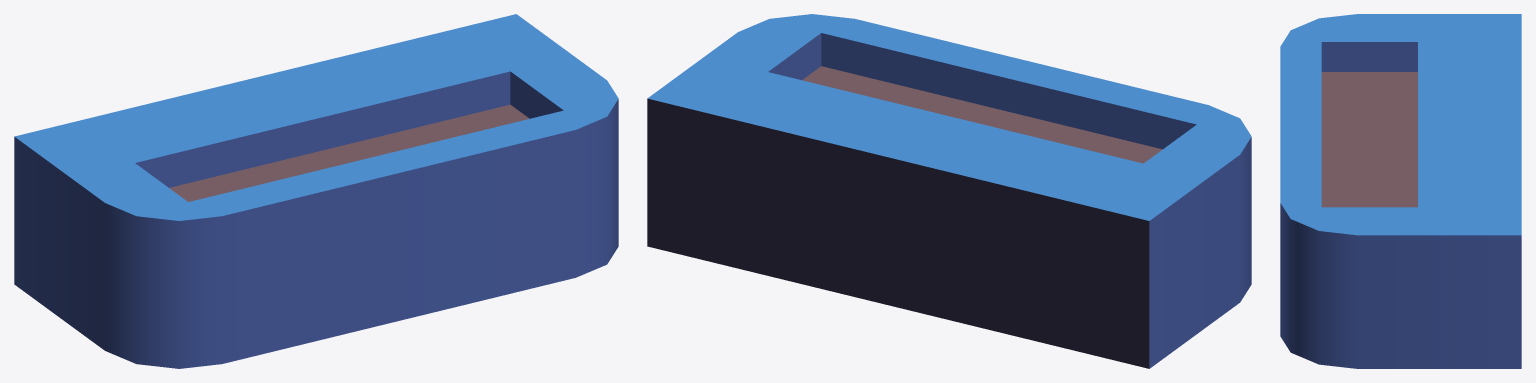
File: PlanterBox_Blue02.glb
3 views of the same model, side by side, from view 1: azimuth 30°, elevation 25°; view 2: azimuth 150°, elevation 25°; view 3: azimuth 270°, elevation 25° (orthographic). The views are drawn at different scales.
Visible parts, largest first — view 1: PlanterBox_Blue02; view 2: PlanterBox_Blue02; view 3: PlanterBox_Blue02.
Part boxes in pixels (left/top/right/bottom): PlanterBox_Blue02: left=14, top=14, right=618, bottom=368; PlanterBox_Blue02: left=647, top=14, right=1251, bottom=368; PlanterBox_Blue02: left=1280, top=14, right=1521, bottom=368.
Bounding box in the file's own units: 0.9727 × 0.2738 × 0.4483.
Materials: 1 (1 with a texture image).
